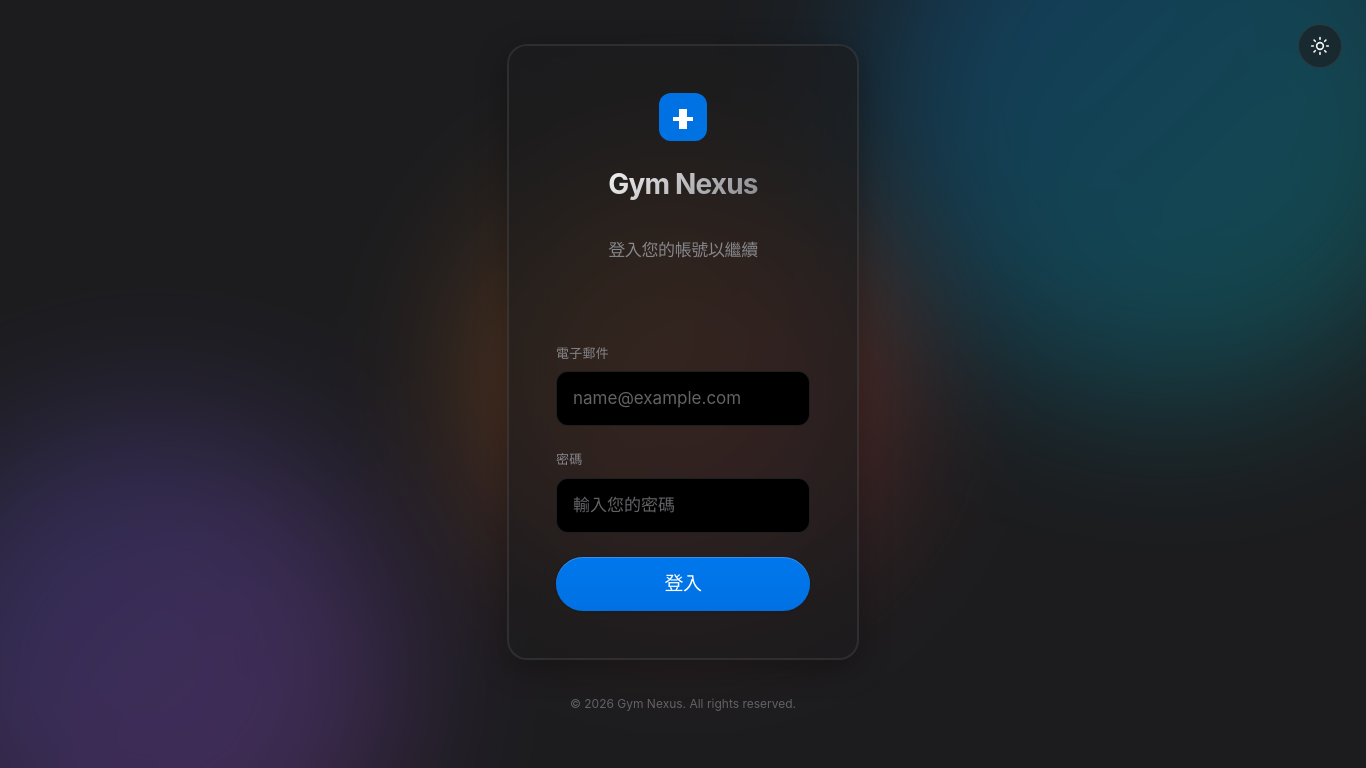
Test: Login Page › 登入功能 › 應該在登入失敗時顯示錯誤訊息
The width and height of the screenshot is (1366, 768).
Type "test@example.com" into the field with id "email".
click(683, 399); type("test@example.com")  # box [556,371,810,426]
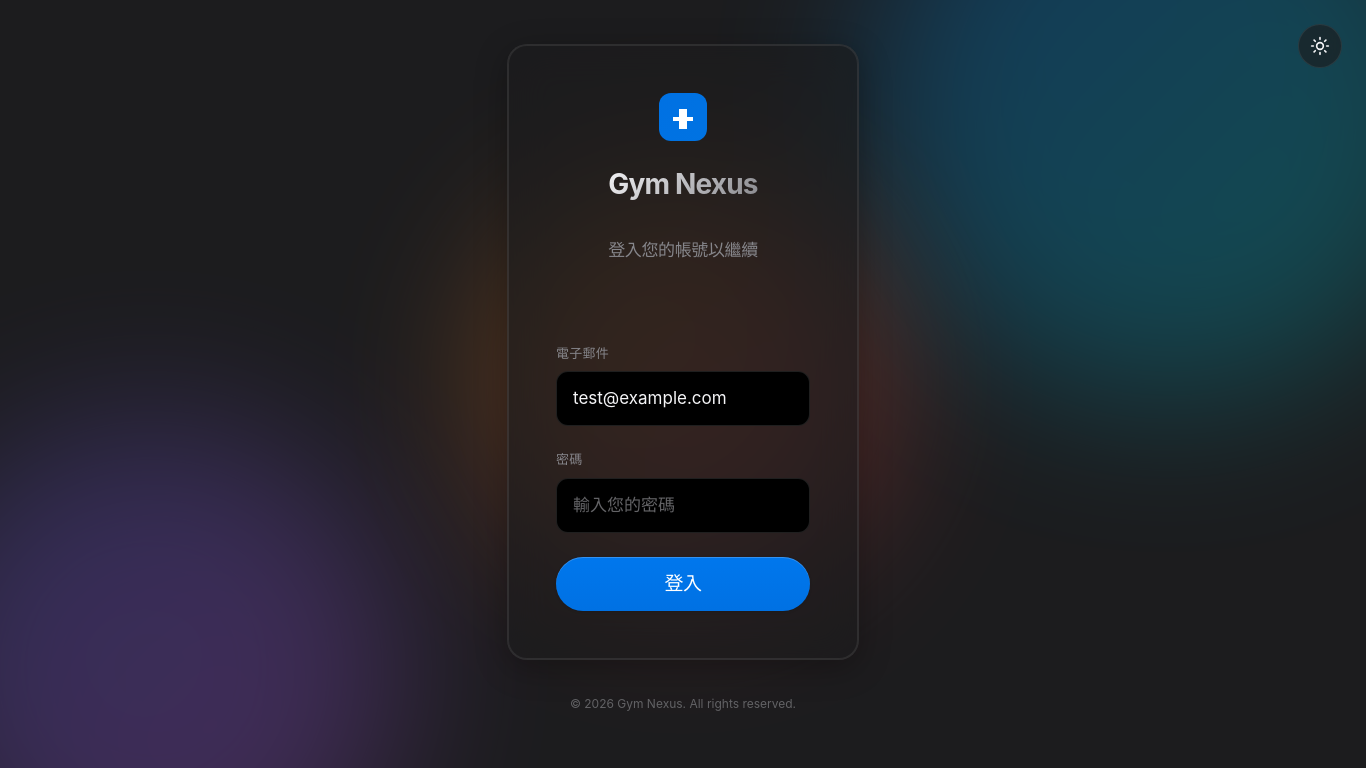
Type "wrong-password" into the password field labelled "密碼".
click(683, 505); type("wrong-password")  # box [556,478,810,532]
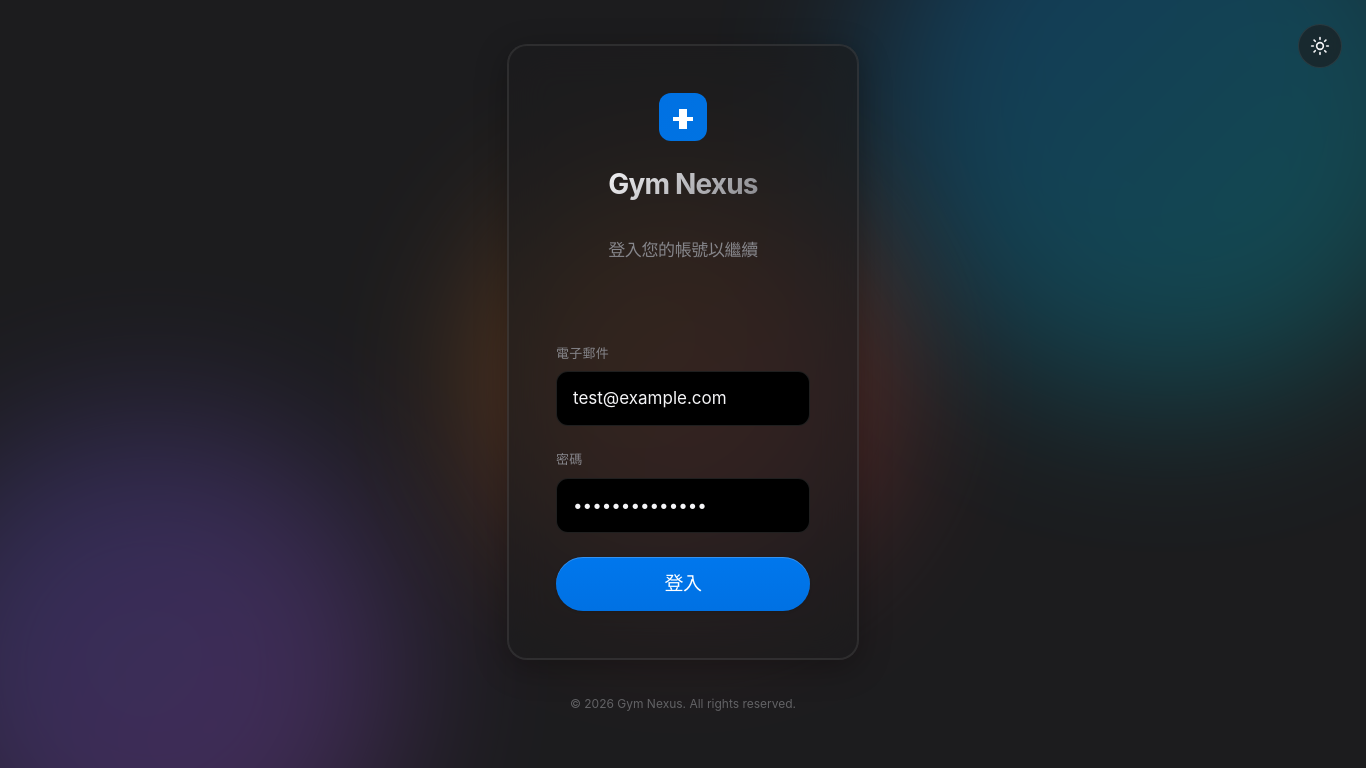
Submit the form, box [556,344,810,611]
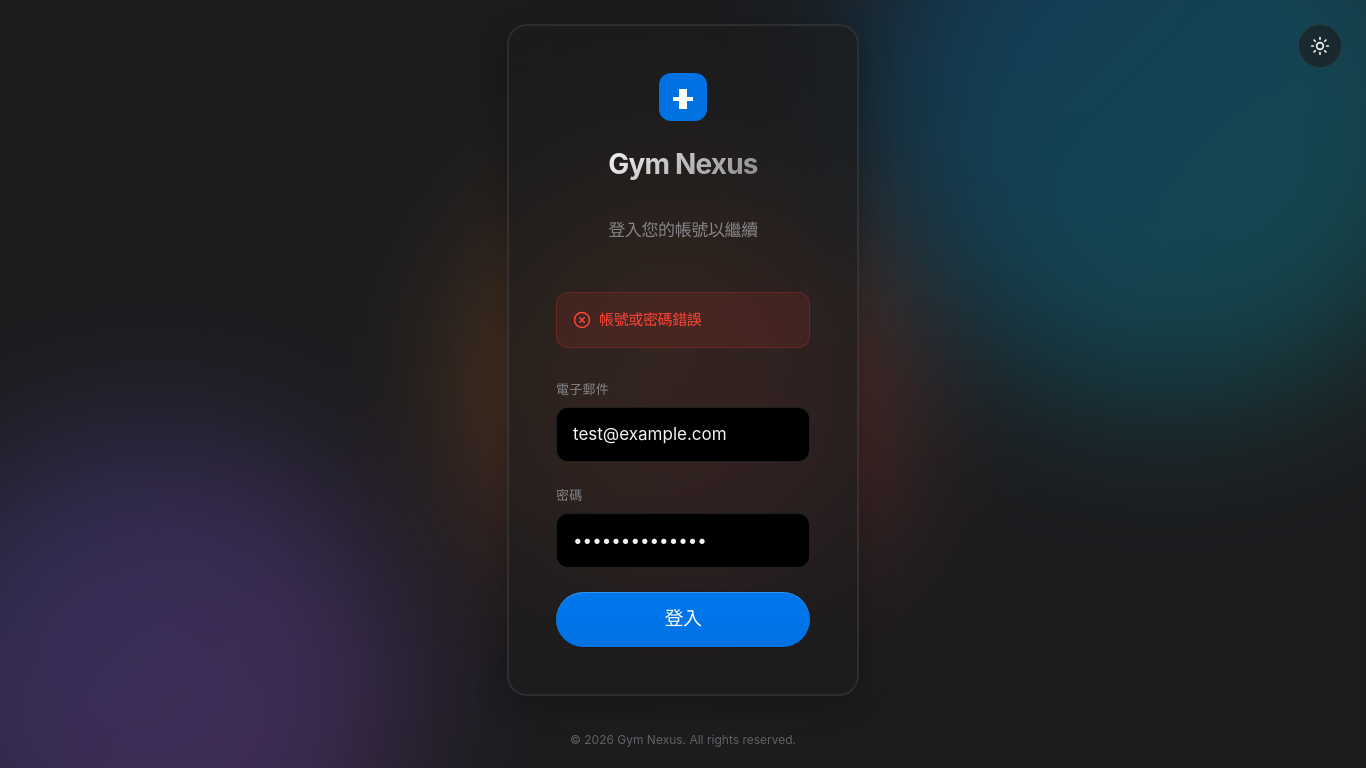
Expected: the element with class "error-banner" is shown, [556,292,810,348]
Expected: the element with class "error-banner" reads "帳號或密碼錯誤", [599,310,701,329]
